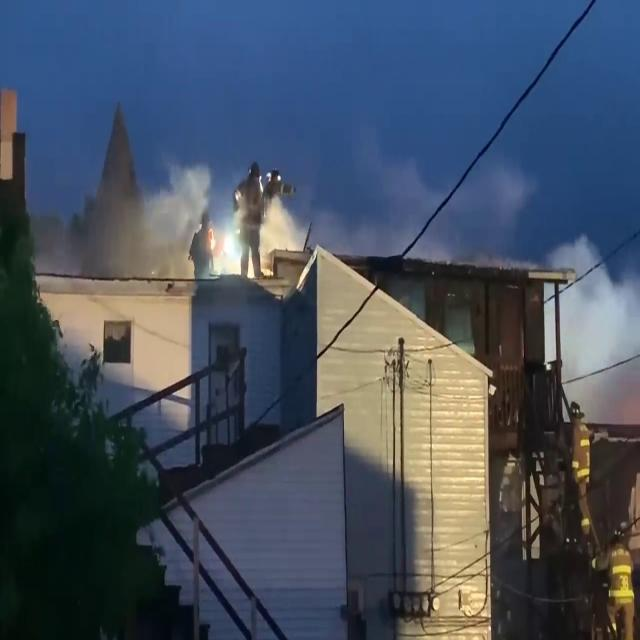Smoke: (356, 143, 538, 266), (540, 236, 640, 422), (120, 152, 218, 268)
